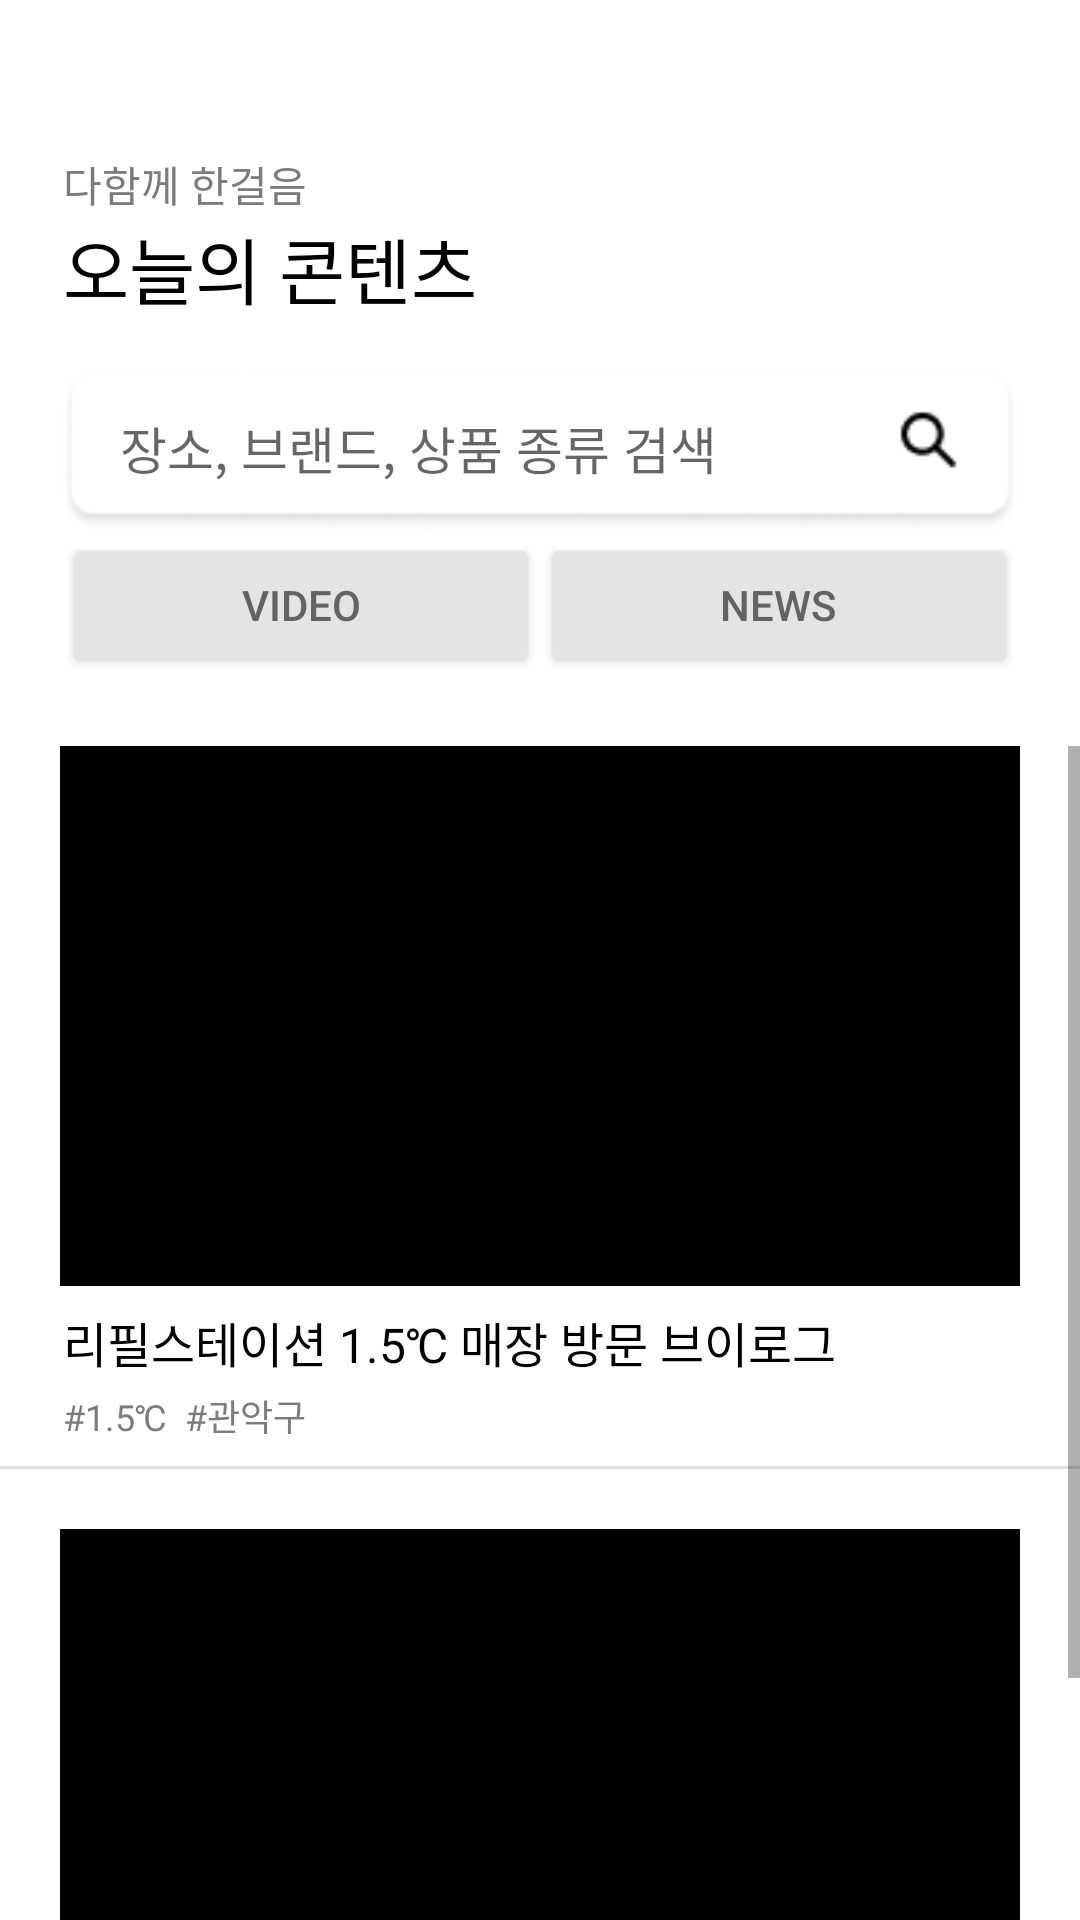

Named icons in this screenshot (1080*1920) and their centers, (x=x, y=y):
map search: (x=928, y=440)
